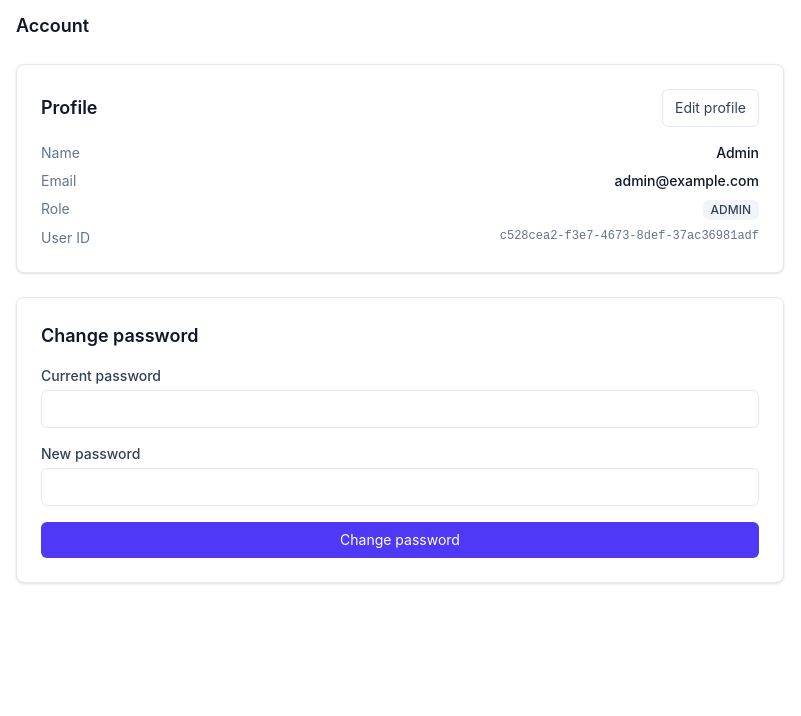
FE-ACCT-02: profile info › edits name and email with a self PATCH and refreshes the session user
Click the button "Edit profile".
click(710, 108)  # box [662,89,759,127]
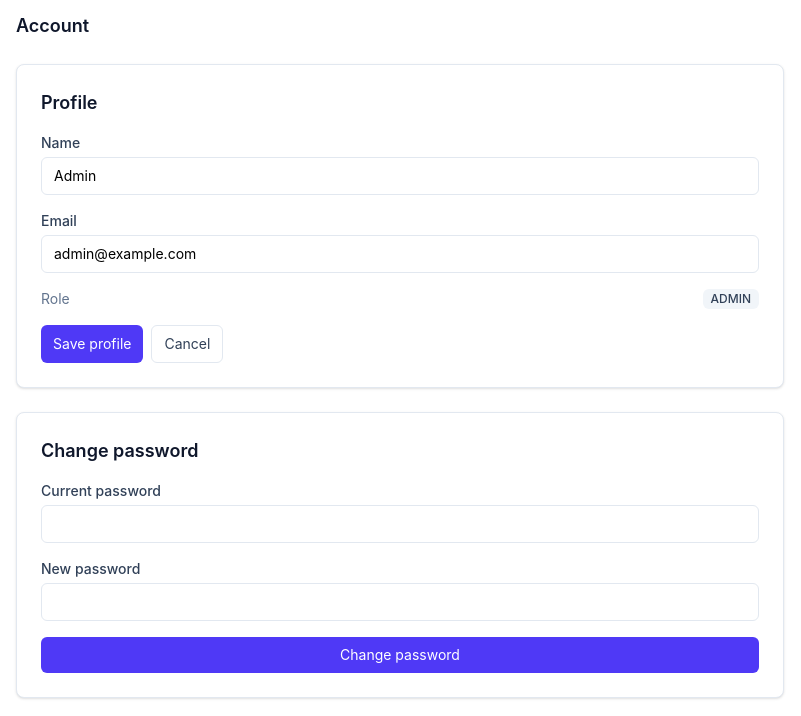
Replace the text in the field labelled "Name" with "Updated Admin" at point(400, 176), box [41,157,759,195]
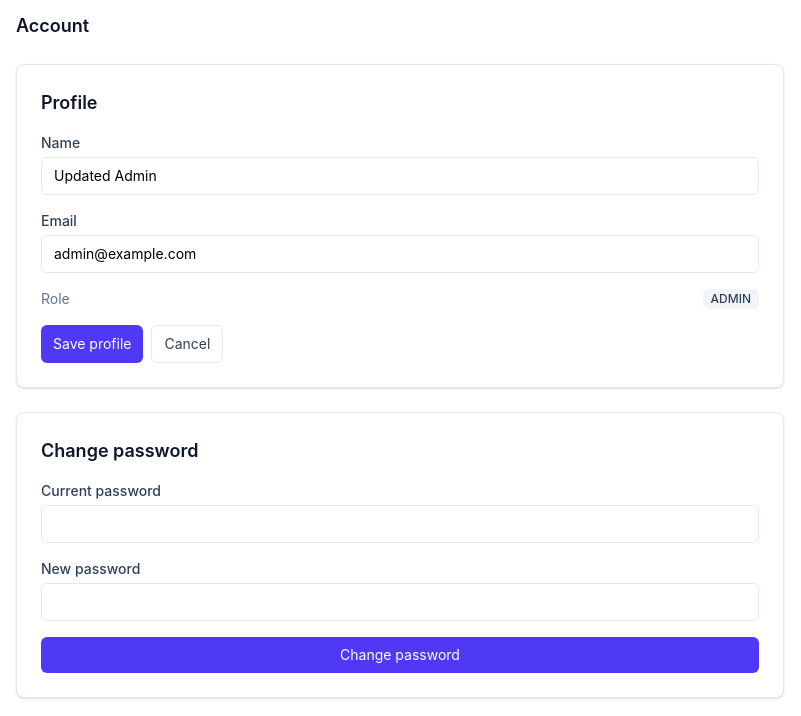
Replace the text in the field labelled "Email" with "updated@example.com" at point(400, 254), box [41,235,759,273]
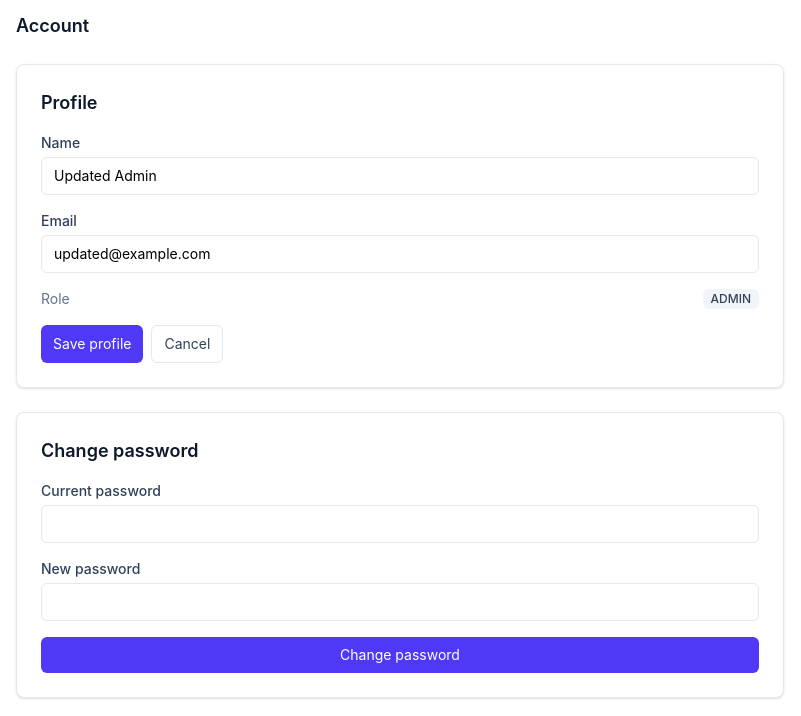
Click the button "Save profile".
click(92, 344)  # box [41,325,144,363]
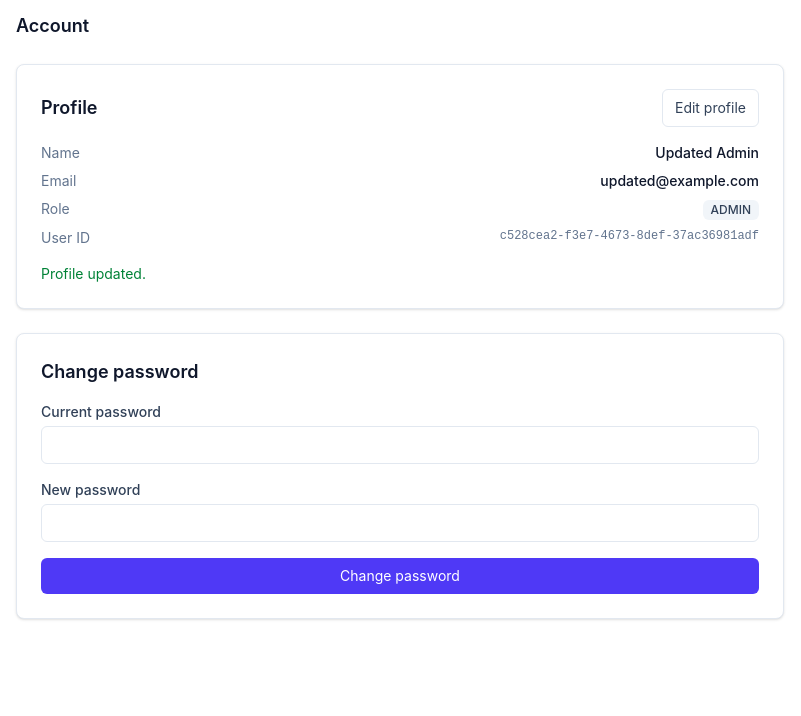
Check: the message shows "Profile updated", box [41,265,146,282]
